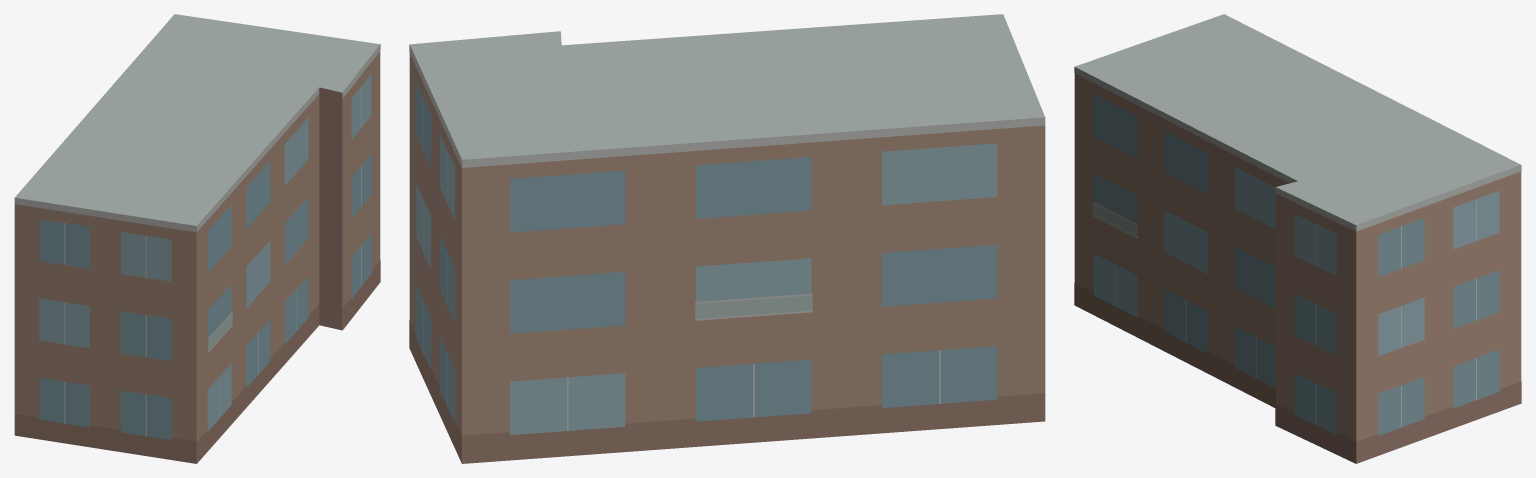
The model's file is survey-upis-32690646.glb.
3 renders of one model, left to right at view 1: azimuth 30°, elevation 25°; view 2: azimuth 150°, elevation 25°; view 3: azimuth 270°, elevation 25°, orthographic. The views are drawn at different scales.
Visible parts, largest first — view 1: survey-upis-32690646.tmp; view 2: survey-upis-32690646.tmp; view 3: survey-upis-32690646.tmp.
Boxes of the visible parts, x1,y1,x2,y2 form: survey-upis-32690646.tmp: [14, 14, 380, 463]; survey-upis-32690646.tmp: [409, 14, 1045, 463]; survey-upis-32690646.tmp: [1074, 14, 1521, 463].
Bounding box in the file's own units: 17.38 × 9.15 × 15.54.
